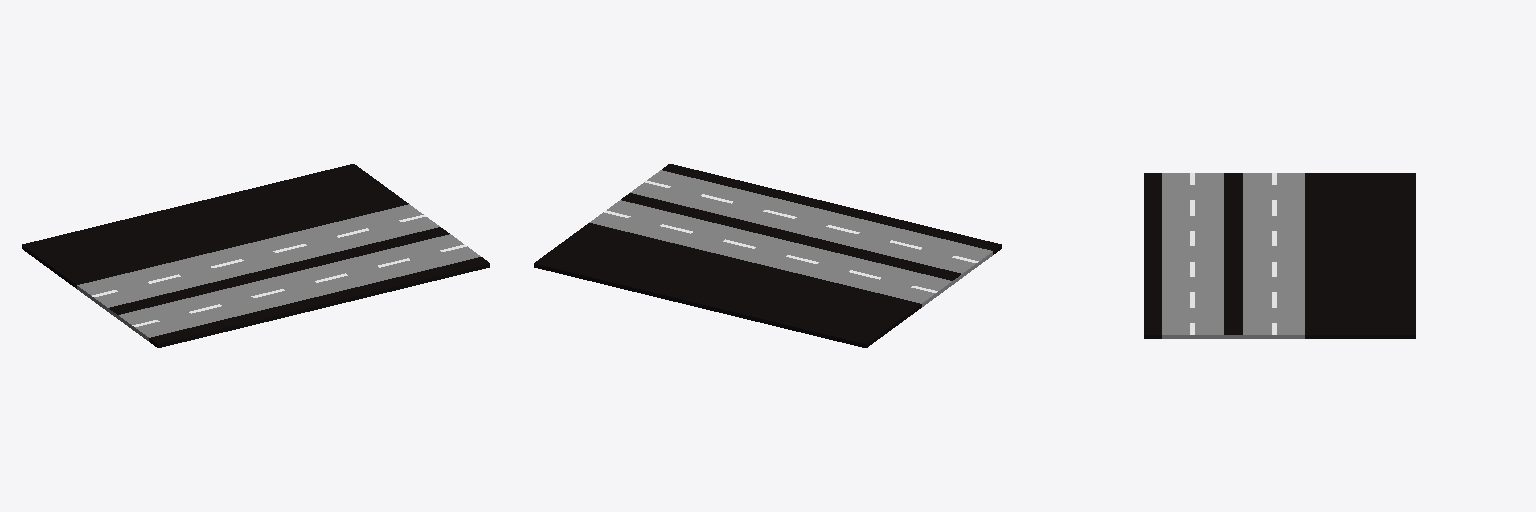
File: road.obj
The picture shows the model from 3 angles: view 1: azimuth 30°, elevation 25°; view 2: azimuth 150°, elevation 25°; view 3: azimuth 270°, elevation 25°; orthographic projection.
Visible parts, largest first — view 1: Box004; view 2: Box004; view 3: Box004.
Part boxes in pixels (left/top/right/bottom): Box004: left=22, top=164, right=489, bottom=347; Box004: left=534, top=164, right=1001, bottom=347; Box004: left=1144, top=173, right=1415, bottom=338.
Size of the model in its own units: 263 by 3.07 by 187.